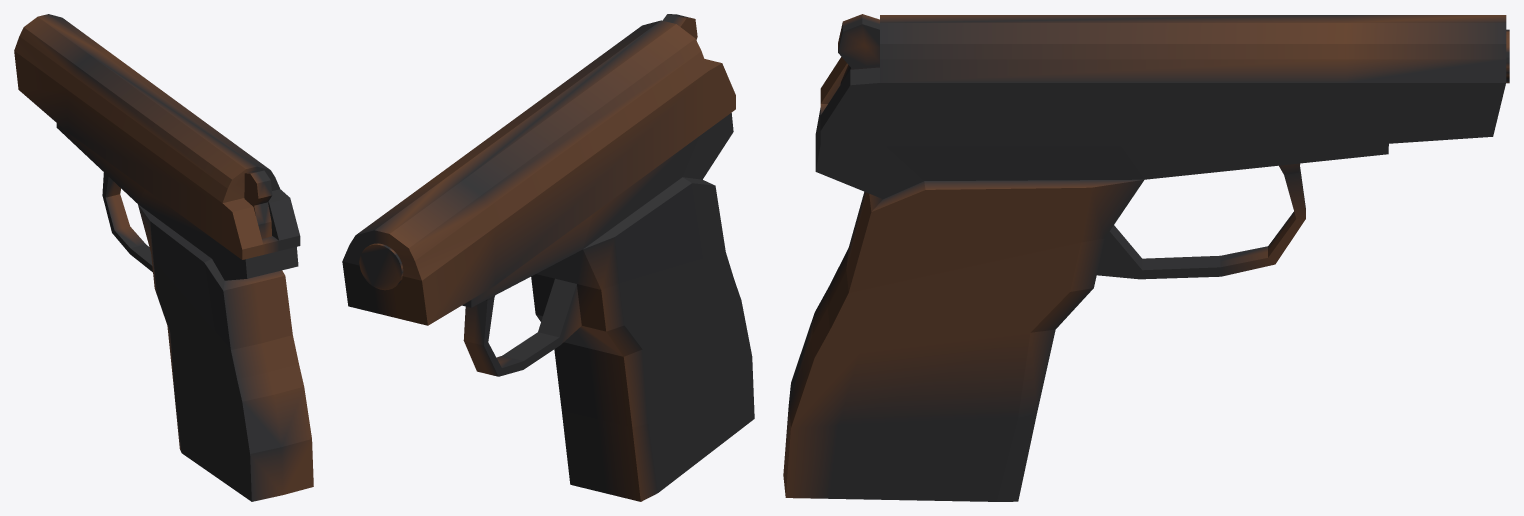
Rendered from MakarovProp.glb.
The picture shows the model from 3 angles, left to right: view 1: azimuth 30°, elevation 25°; view 2: azimuth 150°, elevation 25°; view 3: azimuth 270°, elevation 25°; orthographic projection. The views are drawn at different scales.
Visible parts, largest first — view 1: MakarovProp; view 2: MakarovProp; view 3: MakarovProp.
Boxes of the visible parts, x1,y1,x2,y2 form: MakarovProp: (14, 14, 313, 501); MakarovProp: (342, 14, 754, 501); MakarovProp: (783, 14, 1509, 501).
Bounding box in the file's own units: 0.0261 × 0.1205 × 0.171.
